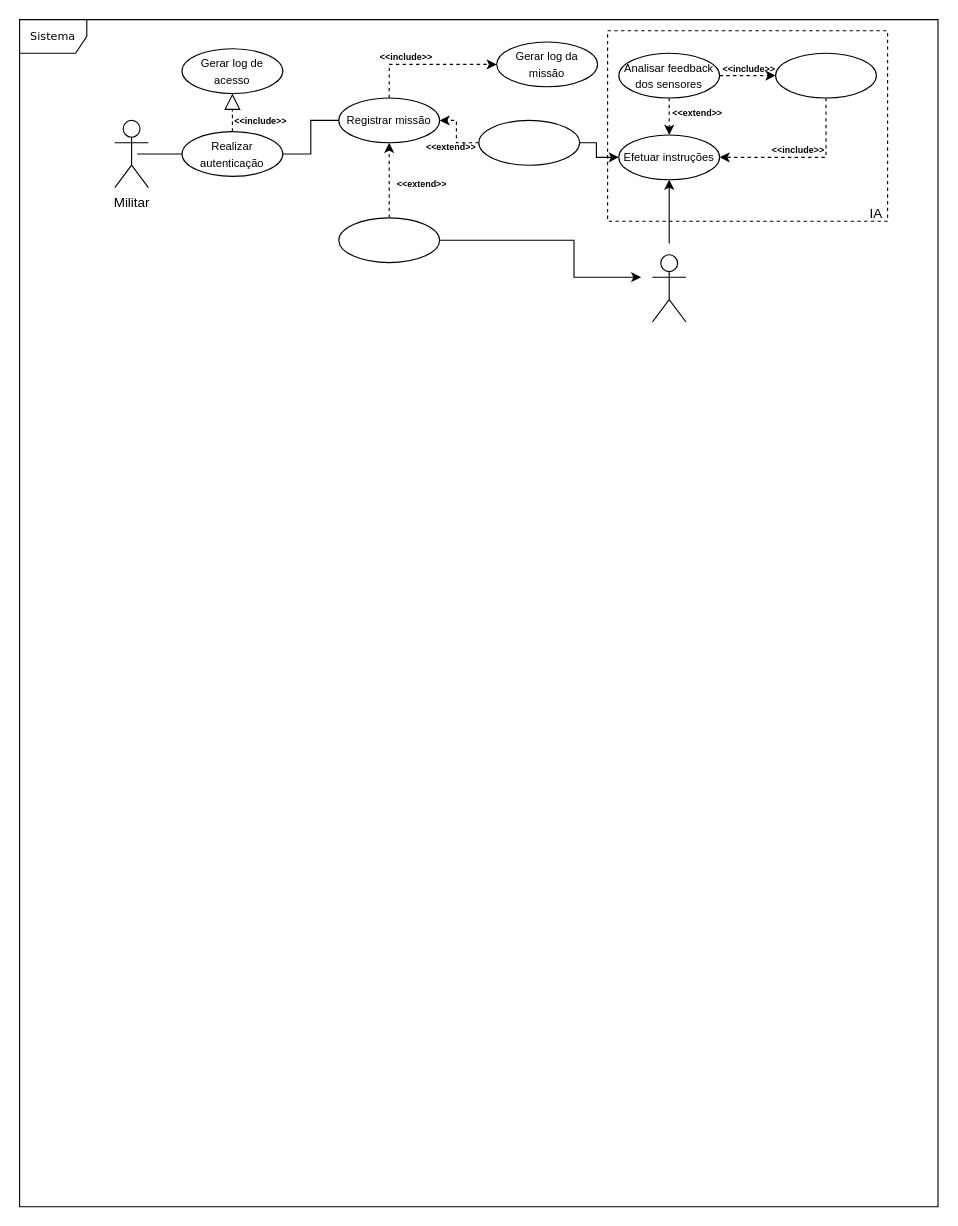
Some shapes in this 958 by 1226 pixel diagram are drawn without their labels. The box of each missing label's shape, as (x1, y1, x2, y2) in pixels:
Drone: (651, 254, 686, 322)
Fornecer instruções: (478, 119, 580, 165)
Gerar novas instruções: (774, 52, 876, 98)
Operar drone: (338, 217, 440, 263)
